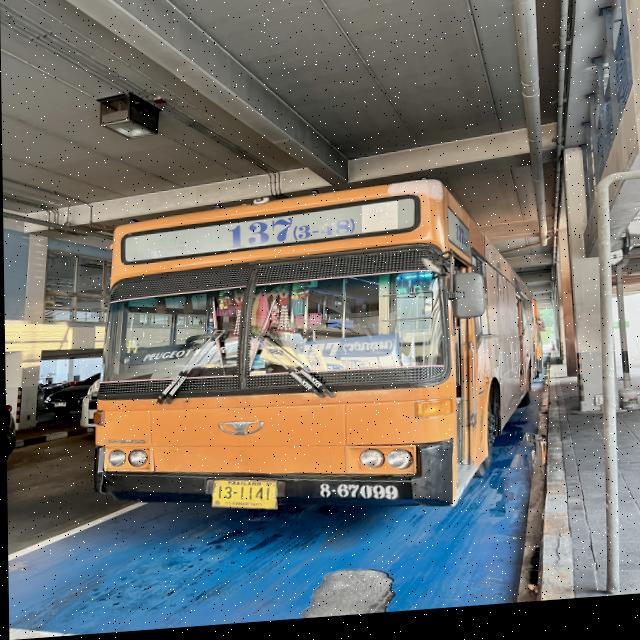BMTA-bus: (88, 187, 540, 518)
Bus Line Number: (225, 217, 361, 255)
Bus Side Number: (312, 484, 400, 513)
Destination Sign: (295, 342, 398, 377)
